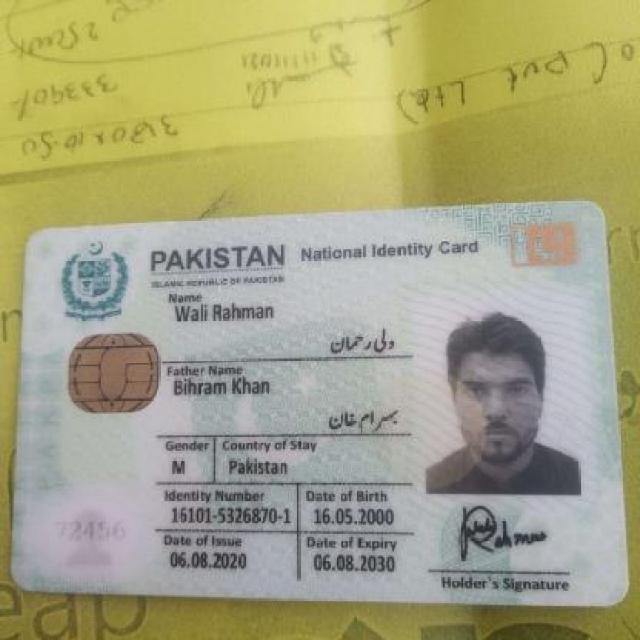Front: (8, 198, 629, 612)
